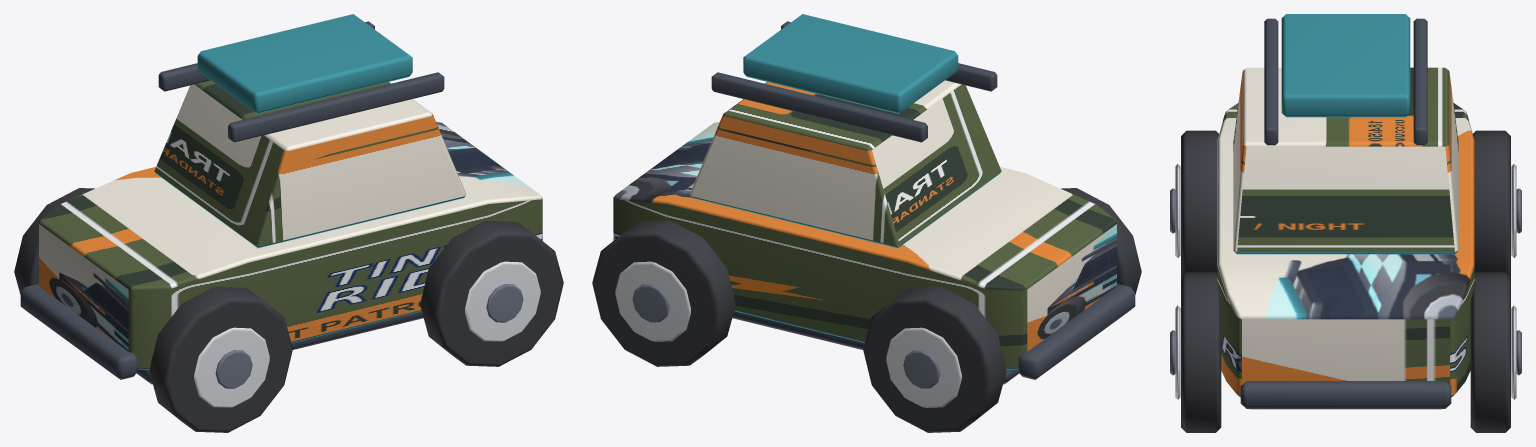
The picture shows the model from 3 angles, left to right: view 1: azimuth 30°, elevation 25°; view 2: azimuth 150°, elevation 25°; view 3: azimuth 270°, elevation 25°; orthographic projection. The views are drawn at different scales.
Visible parts, largest first — view 1: DP-04_connected_shell, DP-04_cabin, utility load, Tire.002, Tire, utility rail, front bumper, Rim, Rim.002, Tire.001, underbody, Hub.002 (+2 smaller); view 2: DP-04_connected_shell, DP-04_cabin, utility load, Tire.003, Tire.001, utility rail.001, front bumper, Rim.001, Rim.003, Tire, underbody, Hub.003 (+2 smaller); view 3: DP-04_connected_shell, DP-04_cabin, utility load, Tire.002, Tire.003, rear bumper, Tire, Tire.001, utility rail, utility rail.001, Rim.002, Rim.003 (+2 smaller).
Boxes of the visible parts, x1,y1,x2,y2 form: DP-04_connected_shell: (39, 121, 542, 369); DP-04_cabin: (154, 80, 466, 248); utility load: (197, 14, 412, 113); Tire.002: (420, 220, 563, 366); Tire: (149, 286, 292, 432); utility rail: (228, 72, 444, 142); front bumper: (20, 284, 138, 379); Rim: (194, 327, 269, 407); Rim.002: (465, 261, 540, 341); Tire.001: (14, 188, 94, 294); underbody: (136, 311, 423, 384); Hub.002: (486, 284, 523, 322); DP-04_connected_shell: (613, 121, 1116, 369); DP-04_cabin: (689, 80, 1001, 248); utility load: (743, 14, 958, 113); Tire.003: (592, 220, 735, 366); Tire.001: (863, 286, 1006, 432); utility rail.001: (711, 72, 927, 142); front bumper: (1017, 284, 1135, 379); Rim.001: (886, 327, 961, 407); Rim.003: (615, 261, 690, 341); Tire: (1061, 188, 1141, 294); underbody: (732, 311, 1019, 384); Hub.003: (632, 284, 669, 322); DP-04_connected_shell: (1217, 103, 1474, 397); DP-04_cabin: (1233, 67, 1458, 254); utility load: (1281, 14, 1410, 117); Tire.002: (1181, 272, 1221, 432); Tire.003: (1470, 272, 1510, 432); rear bumper: (1240, 381, 1451, 408); Tire: (1181, 130, 1218, 277); Tire.001: (1473, 130, 1510, 277); utility rail: (1264, 18, 1278, 145); utility rail.001: (1413, 18, 1427, 145); Rim.002: (1175, 305, 1180, 399); Rim.003: (1511, 305, 1516, 399).
Bounding box in the file's own units: 351 × 220 × 227.
